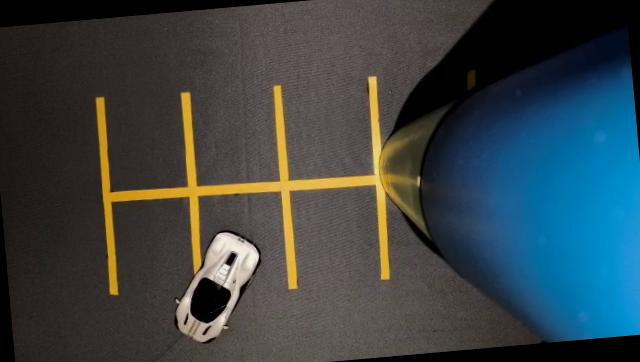toy_car: (146, 212, 284, 354)
